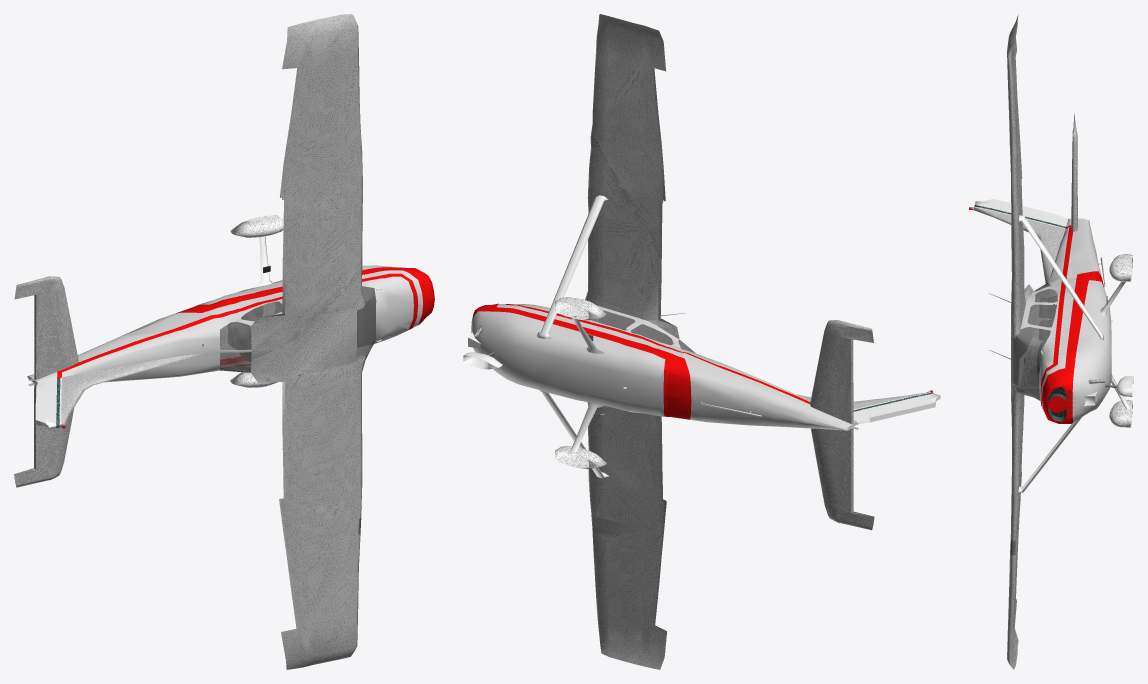
The model's file is rc_cessna_body.fbx.
The picture shows the model from 3 angles, left to right: view 1: azimuth 30°, elevation 25°; view 2: azimuth 150°, elevation 25°; view 3: azimuth 270°, elevation 25°; orthographic projection. The views are drawn at different scales.
Visible parts, largest first — view 1: ID220 (×2), ID274, ID60 (×2), ID69 (×2), ID320, ID37, ID300, ID308, ID352, ID31, ID314, ID435 (+3 smaller); view 2: ID220 (×2), ID314, ID320, ID60 (×2), ID69 (×2), ID300, ID507, ID31, ID274, ID435, ID389, ID308; view 3: ID220 (×2), ID314, ID300, ID320, ID352, ID274, ID37 (×2), ID308, ID507, ID31, ID60, ID359 (+5 smaller).
Part boxes in pixels (box(x1,y1,x2,y2)): ID220 (×2): box(251, 14, 365, 669); ID274: box(62, 276, 413, 382); ID60 (×2): box(14, 276, 78, 380); ID69 (×2): box(14, 383, 73, 487); ID320: box(28, 270, 423, 382); ID37: box(61, 353, 206, 424); ID300: box(176, 267, 434, 364); ID308: box(57, 273, 418, 378); ID352: box(356, 286, 376, 360); ID31: box(35, 378, 56, 429); ID314: box(198, 265, 400, 358); ID435: box(230, 215, 283, 237); ID220 (×2): box(585, 14, 679, 669); ID314: box(471, 311, 665, 416); ID320: box(497, 304, 856, 430); ID60 (×2): box(810, 320, 873, 424); ID69 (×2): box(810, 427, 874, 529); ID300: box(472, 303, 691, 419); ID507: box(536, 195, 608, 338); ID31: box(853, 393, 940, 423); ID274: box(511, 304, 810, 401); ID435: box(555, 297, 606, 320); ID389: box(555, 445, 606, 469); ID308: box(506, 304, 810, 403); ID220 (×2): box(1007, 15, 1033, 669); ID314: box(1072, 280, 1111, 422); ID300: box(1042, 271, 1104, 423); ID320: box(1041, 218, 1101, 416); ID352: box(1011, 327, 1050, 400); ID274: box(1020, 227, 1069, 404); ID37 (×2): box(973, 207, 1065, 294); ID308: box(1040, 225, 1073, 414); ID507: box(1018, 215, 1103, 340); ID31: box(975, 199, 1067, 226); ID60: box(1071, 113, 1077, 231); ID359: box(1027, 304, 1056, 327).
Bounding box in the file's own units: 300 × 434 × 103.
